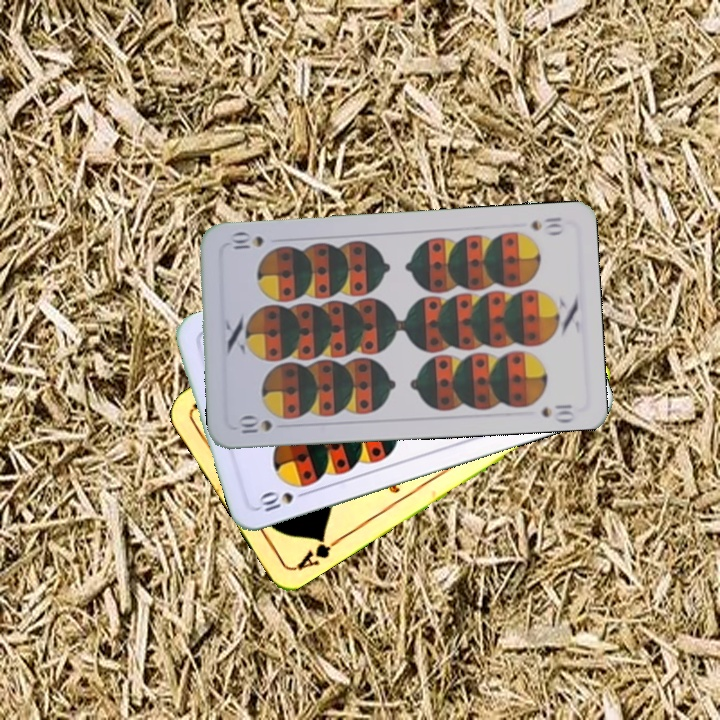GA: (291, 531, 344, 573)
S10: (254, 487, 312, 515), (234, 413, 275, 437), (526, 213, 567, 237)
